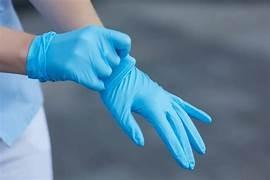Glove: (100, 56, 211, 168), (26, 26, 130, 90)
